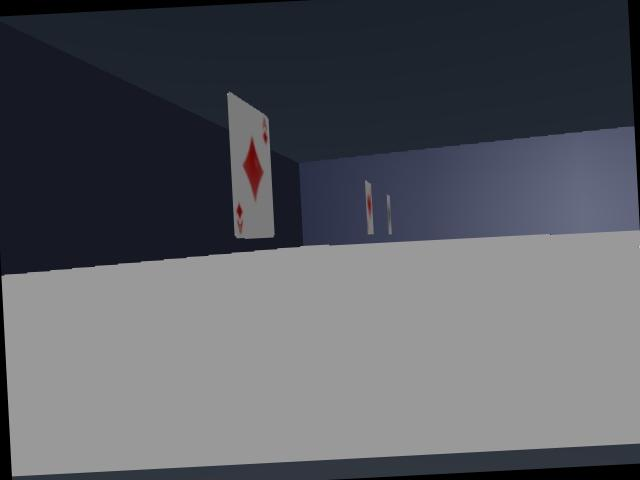diamond: (227, 93, 274, 238)
